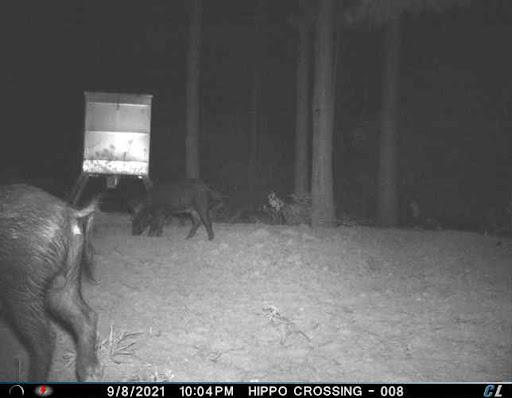Hog: (0, 177, 108, 380), (127, 177, 227, 244)
